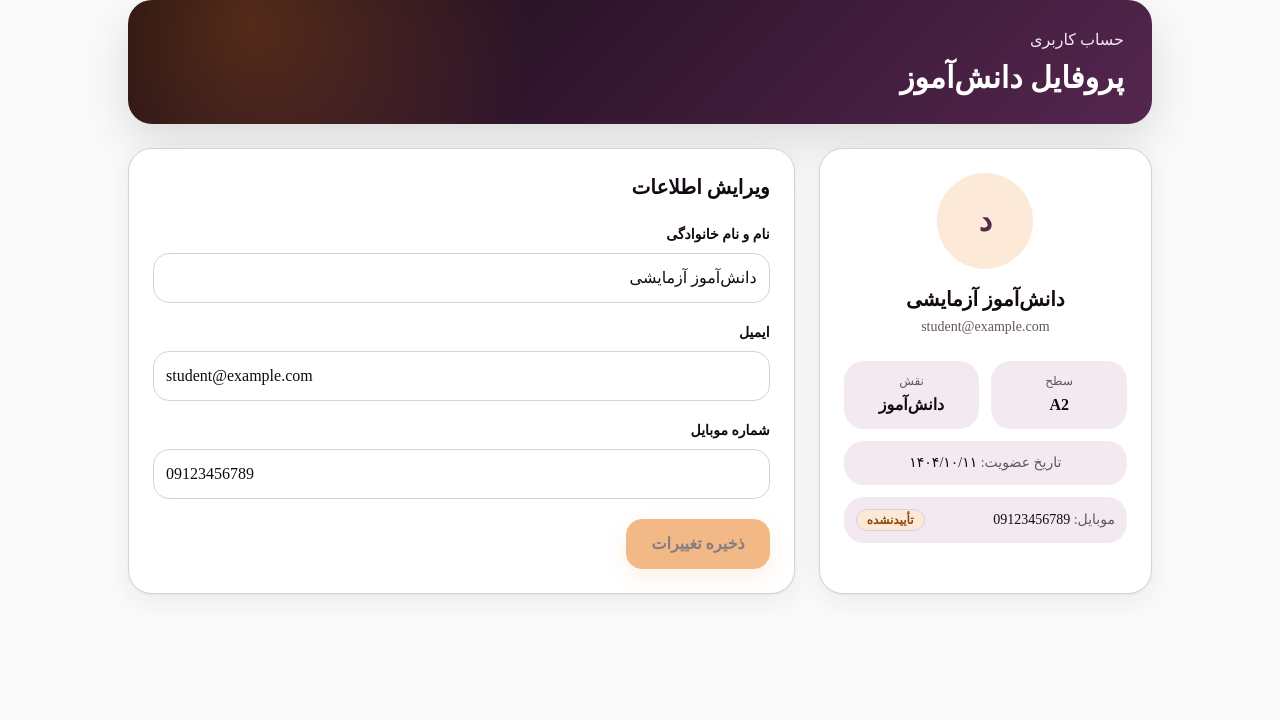
Scenario: ProfilePage editing › restores the saved values on cancel
Type " x" into the field labelled "نام و نام خانوادگی" at (461, 278), box [153, 253, 770, 303]
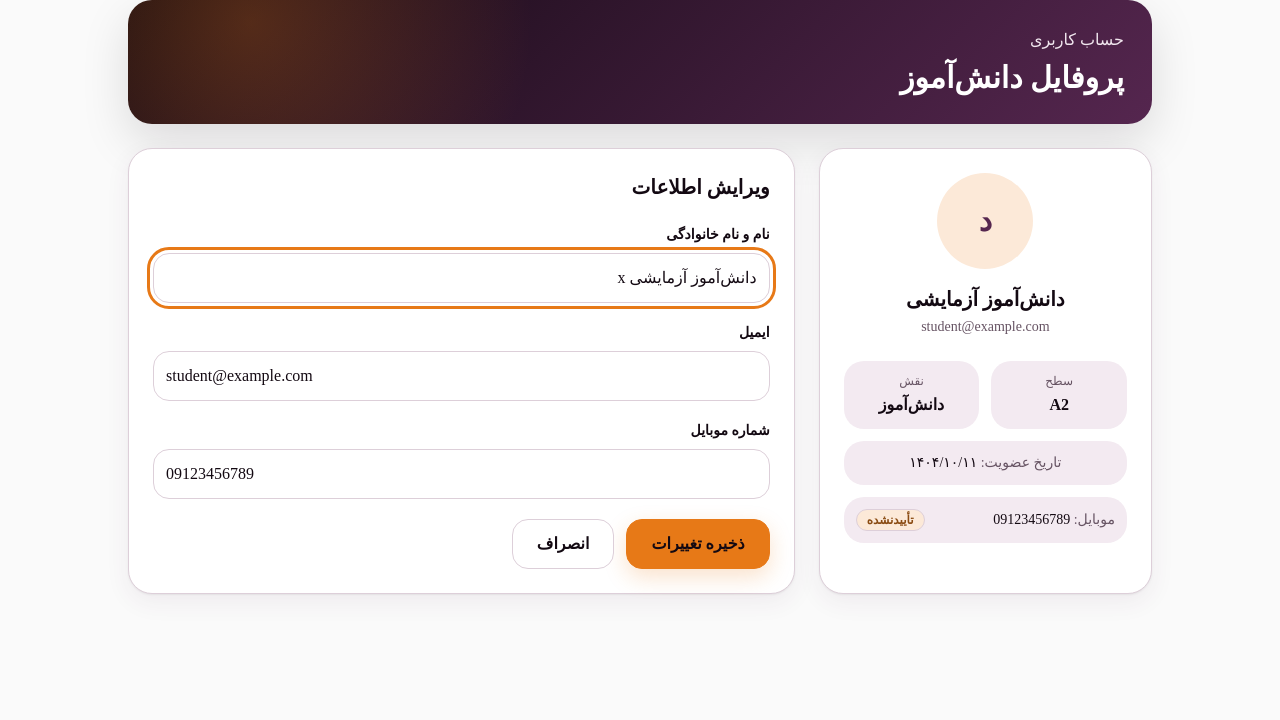
Click the button "انصراف" at (563, 544), box [512, 519, 614, 569]
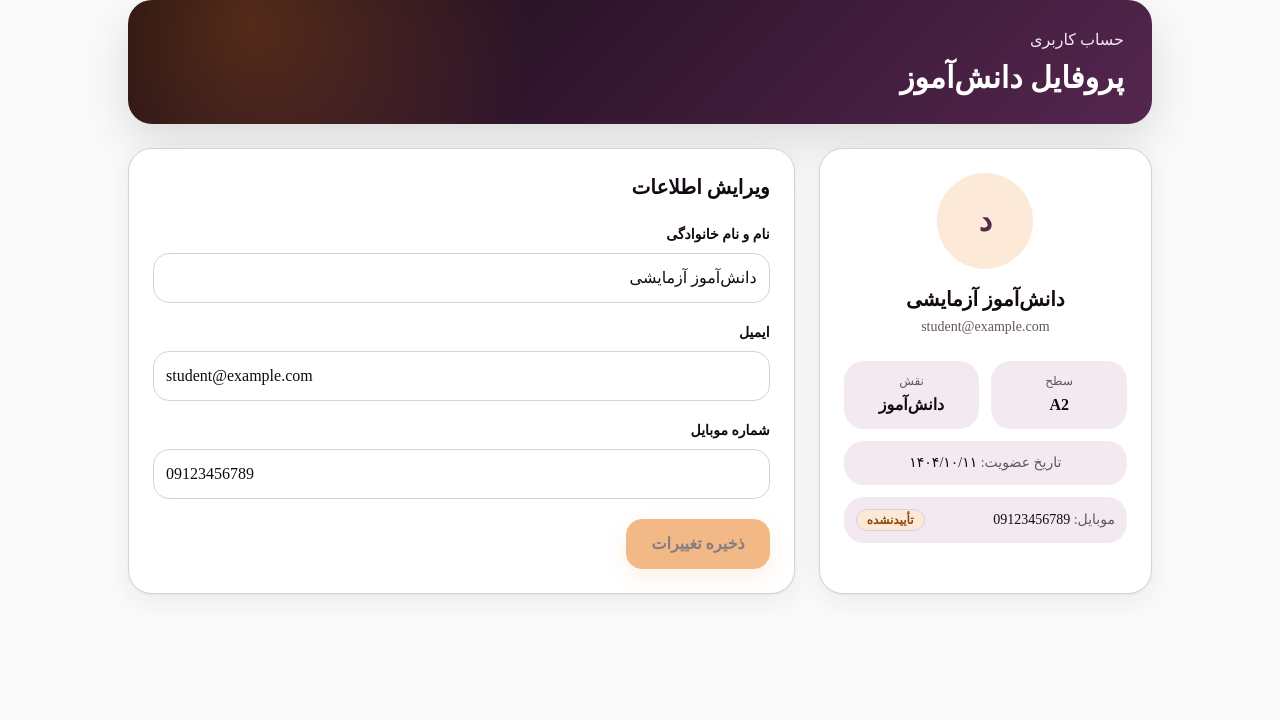
expect the field labelled "نام و نام خانوادگی" holds "دانش‌آموز آزمایشی": met, box [153, 253, 770, 303]
expect the button "ذخیره تغییرات" is disabled: met, box [626, 519, 770, 569]
